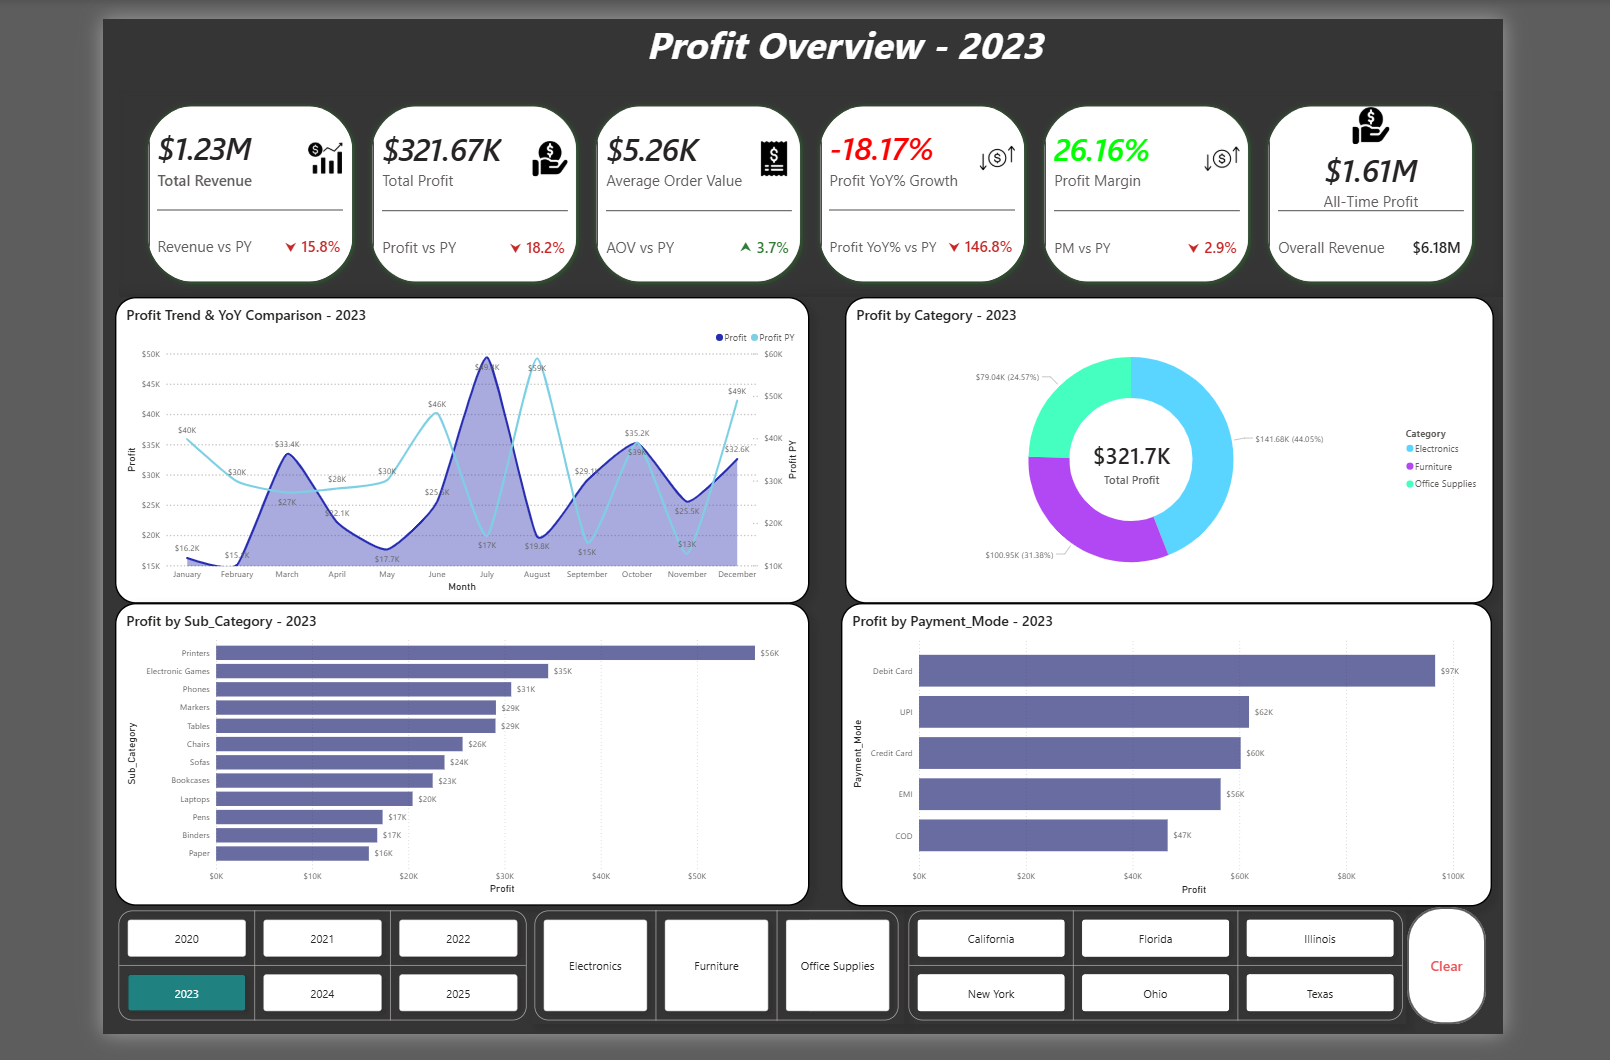

Layout of this report page (visuals, bound fields, positions):
{"tool":"powerbi","page":{"name":"Profit","canvas":[2000,1600],"ordinal":1},"visuals":[{"type":"cardVisual","fields":{"Data":["analytics Sales_Fact.Total Revenue","analytics Sales_Fact.Total Profit","analytics Sales_Fact.Average Order Value","analytics Sales_Fact.Profit YoY% Growth","analytics Sales_Fact.Profit Margin","measures (2).Total Profit All Years"]},"box":[21.6,102.7,1978.4,294.6],"z":0},{"type":"lineChart","fields":{"Category":["Date.Month"],"Y":["Sum(analytics Sales_Fact.Profit)"],"Y2":["analytics Sales_Fact.Profit PY"]},"box":[16.2,397.3,991.9,437.8],"z":1000},{"type":"barChart","fields":{"Category":["analytics Product_Dim.Sub_Category"],"Y":["analytics Sales_Fact.Total Profit"]},"box":[16.2,835.1,991.9,432.4],"z":2000},{"type":"donutChart","fields":{"Category":["analytics Product_Dim.Category"],"Y":["analytics Sales_Fact.Total Profit"]},"box":[1059.5,397.3,927,437.8],"z":3000},{"type":"barChart","fields":{"Category":["analytics Product_Dim.Payment_Mode"],"Y":["analytics Sales_Fact.Total Profit"]},"box":[1055.1,834.8,930.2,433.3],"z":4000},{"type":"advancedSlicerVisual","fields":{"Values":["Date.Year"]},"box":[16.2,1267.6,594.6,167.6],"z":5000},{"type":"advancedSlicerVisual","fields":{"Values":["analytics Product_Dim.Category"]},"box":[610.8,1267.6,532.4,167.6],"z":6000},{"type":"advancedSlicerVisual","fields":{"Values":["analytics Customer_Dim.State"]},"box":[1145.9,1267.6,716.2,167.6],"z":7000},{"type":"card","fields":{"Values":["analytics Sales_Fact.Total Profit"]},"box":[1389.2,578.4,162.2,113.5],"z":8000},{"type":"textbox","box":[581.1,0,959.5,102.7],"z":9000},{"type":"actionButton","box":[1862.2,1267.6,113,167.6],"z":10000}]}

Visuals, with their boxes on the page's 2000x1600 design canvas (x1, y1, x2, y2). These are canvas units, not pixel positions in the 1610x1060 screenshot, which may show the page scaled, cropped or inside an application window:
cardVisual - analytics Sales_Fact.Total Revenue x analytics Sales_Fact.Total Profit: <box>22,103,2000,397</box>
lineChart - Date.Month x Sum(analytics Sales_Fact.Profit): <box>16,397,1008,835</box>
barChart - analytics Product_Dim.Sub_Category x analytics Sales_Fact.Total Profit: <box>16,835,1008,1268</box>
donutChart - analytics Product_Dim.Category x analytics Sales_Fact.Total Profit: <box>1060,397,1986,835</box>
barChart - analytics Product_Dim.Payment_Mode x analytics Sales_Fact.Total Profit: <box>1055,835,1985,1268</box>
advancedSlicerVisual - Date.Year: <box>16,1268,611,1435</box>
advancedSlicerVisual - analytics Product_Dim.Category: <box>611,1268,1143,1435</box>
advancedSlicerVisual - analytics Customer_Dim.State: <box>1146,1268,1862,1435</box>
card - analytics Sales_Fact.Total Profit: <box>1389,578,1551,692</box>
textbox: <box>581,0,1541,103</box>
actionButton: <box>1862,1268,1975,1435</box>
